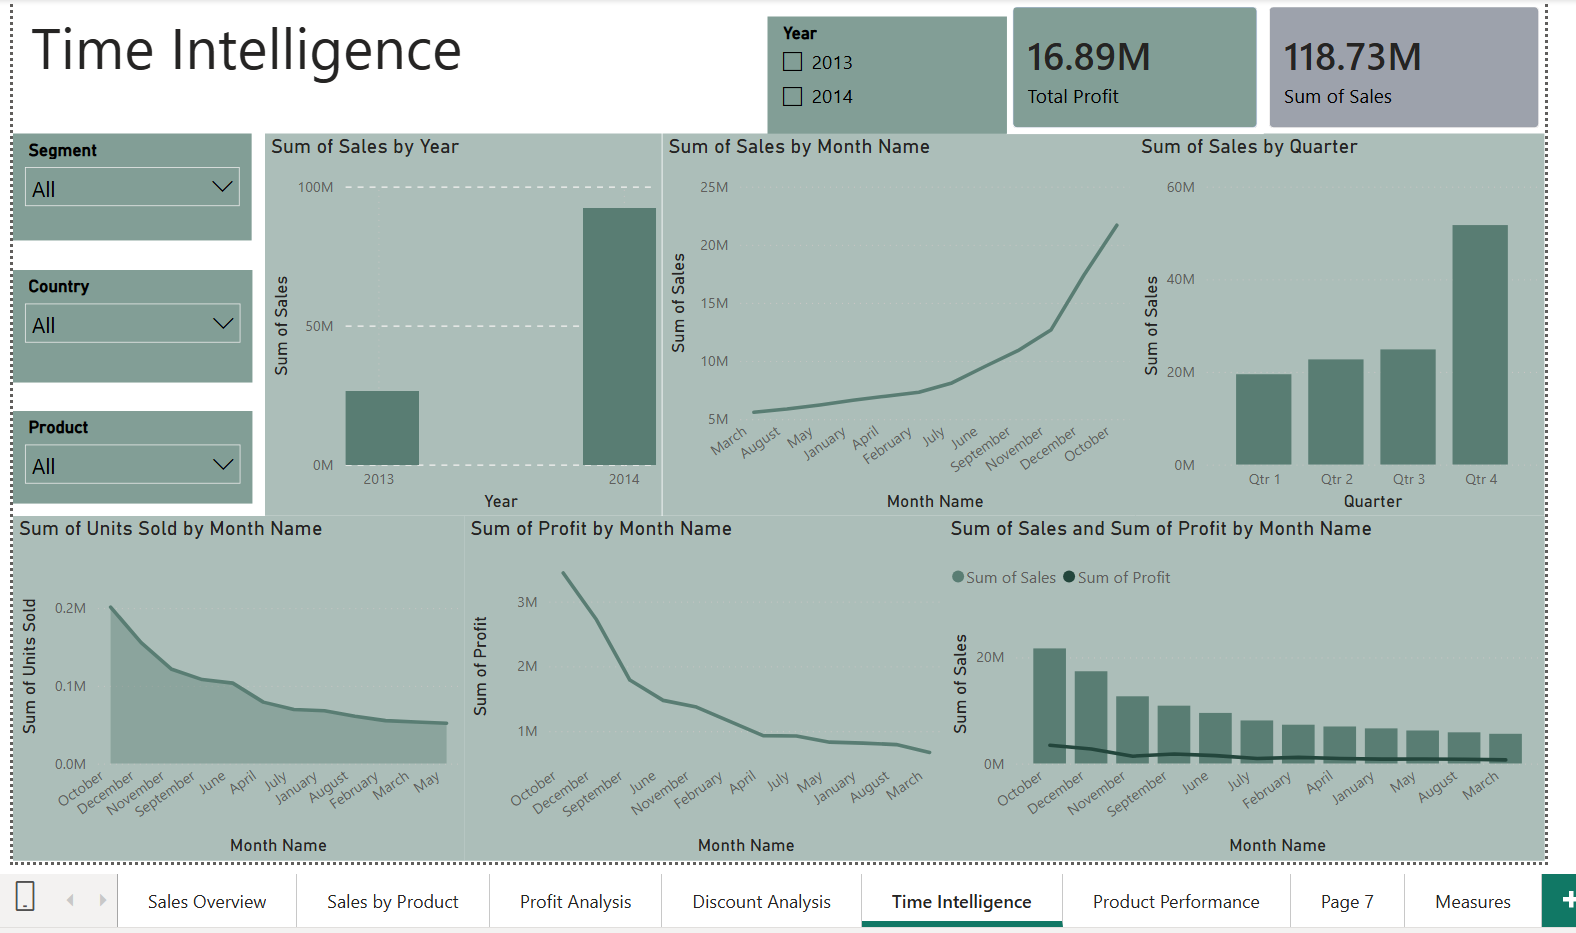

This screenshot's page, from the dashboard's own definition file:
{"tool":"powerbi","page":{"name":"Time Intelligence","canvas":[1280,720],"ordinal":4},"visuals":[{"type":"textbox","box":[10,0,408,82],"z":0},{"type":"cardVisual","fields":{"Data":["Sum(Sheet1.Sales)"]},"box":[1043.3,0,236,112],"z":1000},{"type":"lineChart","fields":{"Category":["Sheet1.Month Name"],"Y":["Sum(Sheet1.Sales)"]},"box":[542.1,112.1,395.2,319.5],"z":2000},{"type":"lineChart","fields":{"Category":["Sheet1.Month Name"],"Y":["Sum(Sheet1.Profit)"]},"box":[377,431.5,404.3,287.7],"z":3000},{"type":"clusteredColumnChart","fields":{"Category":["Sheet1.Date.Variation.Date Hierarchy.Year"],"Y":["Sum(Sheet1.Sales)"]},"box":[210.5,112.1,331.6,319.5],"z":4000},{"type":"lineStackedColumnComboChart","fields":{"Category":["Sheet1.Month Name"],"Y":["Sum(Sheet1.Sales)"],"Y2":["Sum(Sheet1.Profit)"]},"box":[778.3,431.5,501.2,287.7],"z":5000},{"type":"areaChart","fields":{"Category":["Sheet1.Month Name"],"Y":["Sum(Sheet1.Units Sold)"]},"box":[0,431.5,377,287.7],"z":6000},{"type":"columnChart","fields":{"Category":["Sheet1.Date.Variation.Date Hierarchy.Quarter"],"Y":["Sum(Sheet1.Sales)"]},"box":[937.3,112.1,342.2,319.5],"z":7000},{"type":"cardVisual","fields":{"Data":["Sum(Sheet1.Profit)"]},"box":[829.8,0,215,112.1],"z":8000},{"type":"slicer","fields":{"Values":["Sheet1.Segment"]},"box":[0,111.7,199.2,89.1],"z":9000},{"type":"slicer","fields":{"Values":["Sheet1.Country"]},"box":[0,225.3,199.9,93.9],"z":10000},{"type":"slicer","fields":{"Values":["Sheet1.Product"]},"box":[0,343.7,199.9,77.2],"z":11000},{"type":"slicer","fields":{"Values":["Sheet1.Date.Variation.Date Hierarchy.Year"]},"box":[629.7,13.5,200.3,98.2],"z":12000}]}

Visuals, with their boxes on the page's 1280x720 design canvas (x1, y1, x2, y2). These are canvas units, not pixel positions in the 1576x933 screenshot, which may show the page scaled, cropped or inside an application window:
textbox: pyautogui.locateOnScreen(10, 0, 418, 82)
cardVisual - Sum(Sheet1.Sales): pyautogui.locateOnScreen(1043, 0, 1279, 112)
lineChart - Sheet1.Month Name x Sum(Sheet1.Sales): pyautogui.locateOnScreen(542, 112, 937, 432)
lineChart - Sheet1.Month Name x Sum(Sheet1.Profit): pyautogui.locateOnScreen(377, 432, 781, 719)
clusteredColumnChart - Sheet1.Date.Variation.Date Hierarchy.Year x Sum(Sheet1.Sales): pyautogui.locateOnScreen(210, 112, 542, 432)
lineStackedColumnComboChart - Sheet1.Month Name x Sum(Sheet1.Sales): pyautogui.locateOnScreen(778, 432, 1280, 719)
areaChart - Sheet1.Month Name x Sum(Sheet1.Units Sold): pyautogui.locateOnScreen(0, 432, 377, 719)
columnChart - Sheet1.Date.Variation.Date Hierarchy.Quarter x Sum(Sheet1.Sales): pyautogui.locateOnScreen(937, 112, 1280, 432)
cardVisual - Sum(Sheet1.Profit): pyautogui.locateOnScreen(830, 0, 1045, 112)
slicer - Sheet1.Segment: pyautogui.locateOnScreen(0, 112, 199, 201)
slicer - Sheet1.Country: pyautogui.locateOnScreen(0, 225, 200, 319)
slicer - Sheet1.Product: pyautogui.locateOnScreen(0, 344, 200, 421)
slicer - Sheet1.Date.Variation.Date Hierarchy.Year: pyautogui.locateOnScreen(630, 14, 830, 112)
